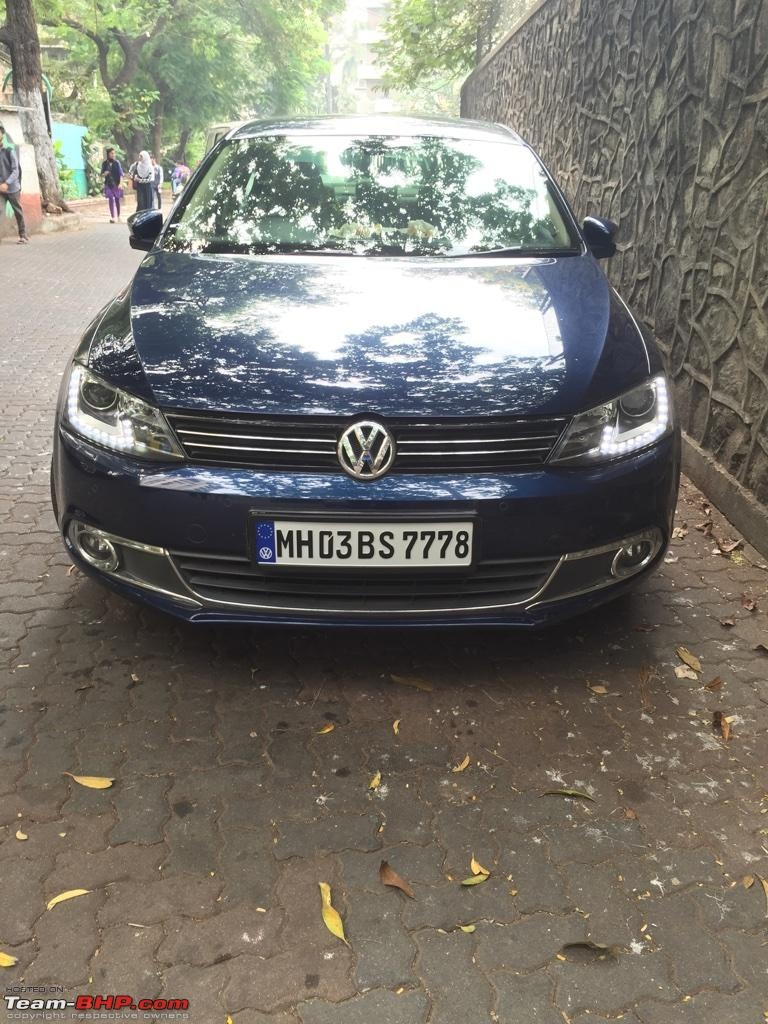number_plate: (271, 514, 474, 561)
